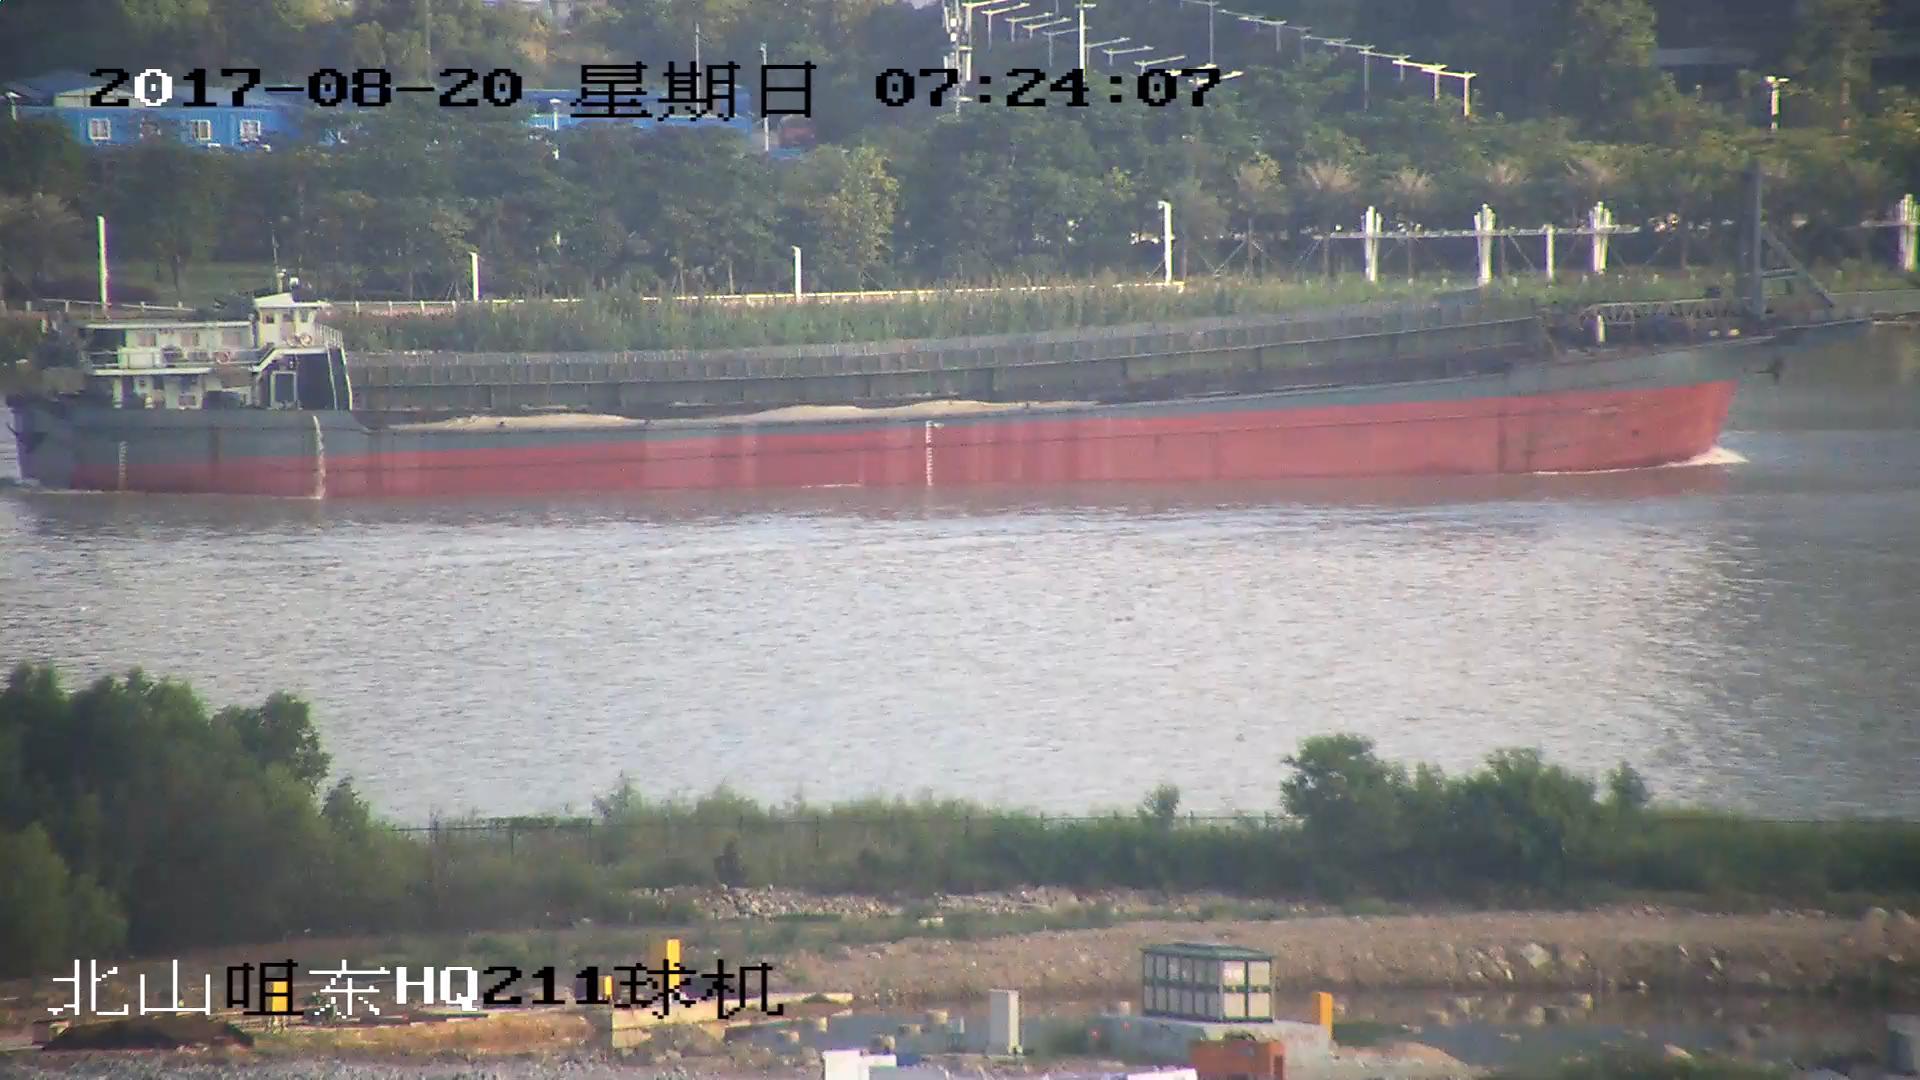bulk cargo carrier: (15, 150, 1920, 501)
